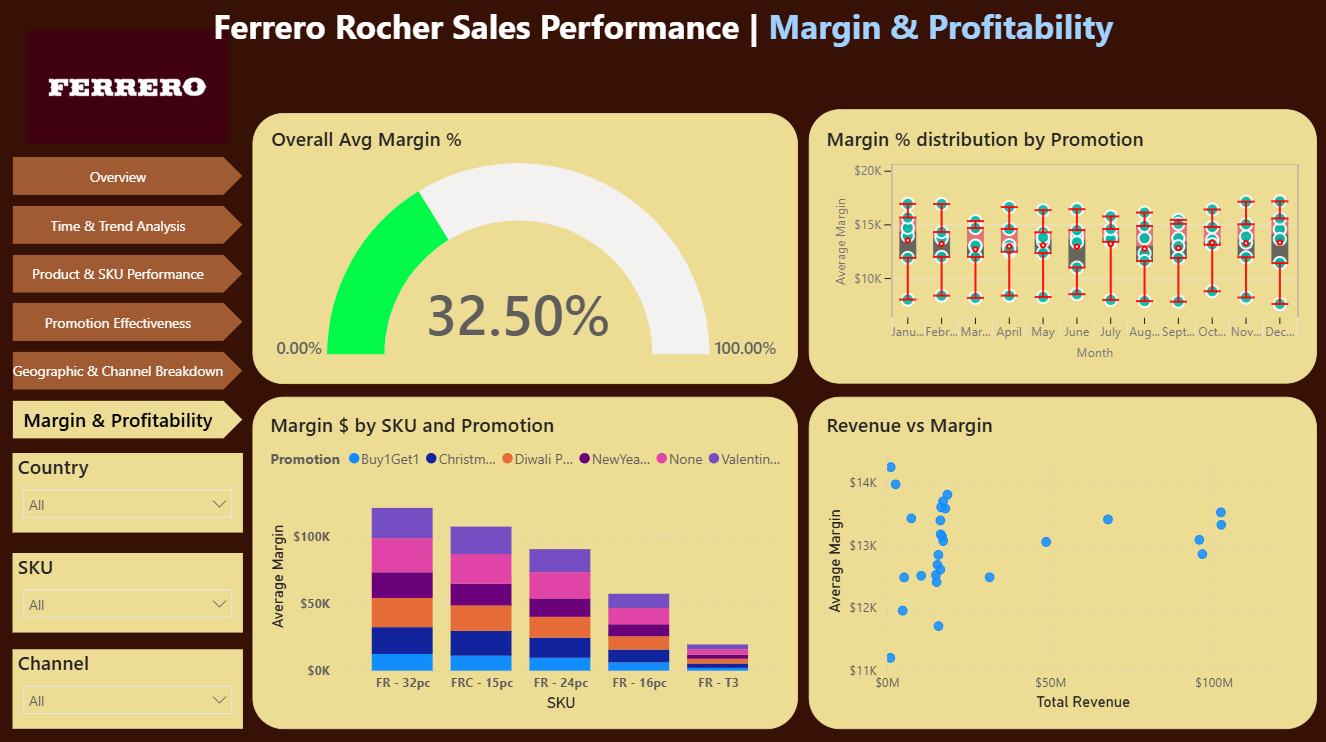

The dashboard page shown, as its layout file describes it:
{"tool":"powerbi","page":{"name":"Margin & Profitability","canvas":[1280,720],"ordinal":5},"visuals":[{"type":"shape","box":[243.7,110.5,526.7,261.8],"z":0},{"type":"shape","box":[780.9,107.4,490.3,264.8],"z":1000},{"type":"slicer","title":"SKU","fields":{"Values":["Sales.SKU"]},"box":[12.6,535.3,222.2,77],"z":2000},{"type":"slicer","title":"Country","fields":{"Values":["Sales.Country"]},"box":[12.6,439.4,222.2,77],"z":3000},{"type":"slicer","title":"Channel","fields":{"Values":["Sales.Channel"]},"box":[12.6,628.8,222.2,77],"z":4000},{"type":"image","box":[12.6,31.6,222.2,108.6],"z":5000},{"type":"pageNavigator","box":[12.6,152.8,222.2,276.5],"z":6000},{"type":"textbox","box":[0,0,1280.3,53],"z":7000},{"type":"shape","box":[243.7,384.4,526.7,320.8],"z":8000},{"type":"shape","box":[780.9,384.4,490.3,320.8],"z":9000},{"type":"columnChart","title":"Margin $ by SKU and Promotion","fields":{"Y":["Sales.Average Margin"],"Category":["Sales.SKU"],"Series":["Sales.Promotion"]},"box":[255.8,399.5,504,293.6],"z":10000},{"type":"scatterChart","title":"Revenue vs Margin","fields":{"X":["Sales.Total Revenue"],"Y":["Sales.Average Margin"],"Category":["Sales.Store"]},"box":[793,399.5,466.1,293.6],"z":11000},{"type":"gauge","title":"Overall Avg Margin %","fields":{"Y":["Sales.Average Margin Percentage"]},"box":[257.3,122.6,502.4,237.6],"z":12000},{"type":"BoxandWhiskerByMAQ1823AD39DT234AB532063E128AX","title":"Margin % distribution by Promotion","fields":{"measure":["Sales.Average Margin"],"category":["Sales.Promotion"],"categoryGroup":["Dimdate.Date.Variation.Date Hierarchy.Month"]},"box":[793,122.6,466.1,237.6],"z":13000}]}

Visuals, with their boxes in screenshot pixels (x1, y1, x2, y2), scaled from the page's 1280x720 canvas onto the 1326x742 screenshot:
shape: rect(252, 114, 798, 384)
shape: rect(809, 111, 1317, 384)
"SKU" slicer: rect(13, 552, 243, 631)
"Country" slicer: rect(13, 453, 243, 532)
"Channel" slicer: rect(13, 648, 243, 727)
image: rect(13, 33, 243, 144)
pageNavigator: rect(13, 157, 243, 442)
textbox: rect(0, 0, 1325, 55)
shape: rect(252, 396, 798, 727)
shape: rect(809, 396, 1317, 727)
"Margin $ by SKU and Promotion" columnChart: rect(265, 412, 787, 714)
"Revenue vs Margin" scatterChart: rect(821, 412, 1304, 714)
"Overall Avg Margin %" gauge: rect(267, 126, 787, 371)
"Margin % distribution by Promotion" BoxandWhiskerByMAQ1823AD39DT234AB532063E128AX: rect(821, 126, 1304, 371)
